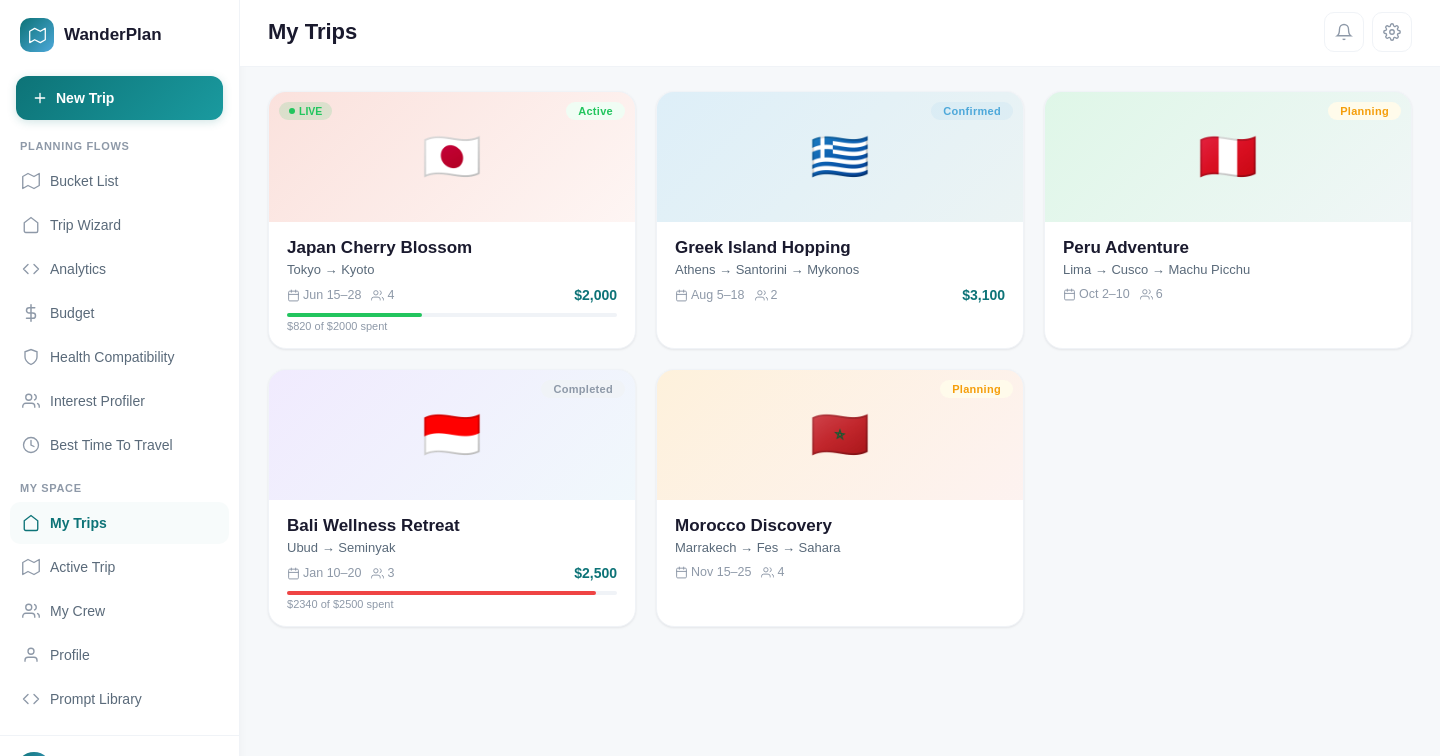
Scenario: Trip detail expense management › B-09 deletes an expense and recalculates running total
The width and height of the screenshot is (1440, 756).
Click the heading "Greek Island Hopping" at (763, 248), box [675,238,851,257]
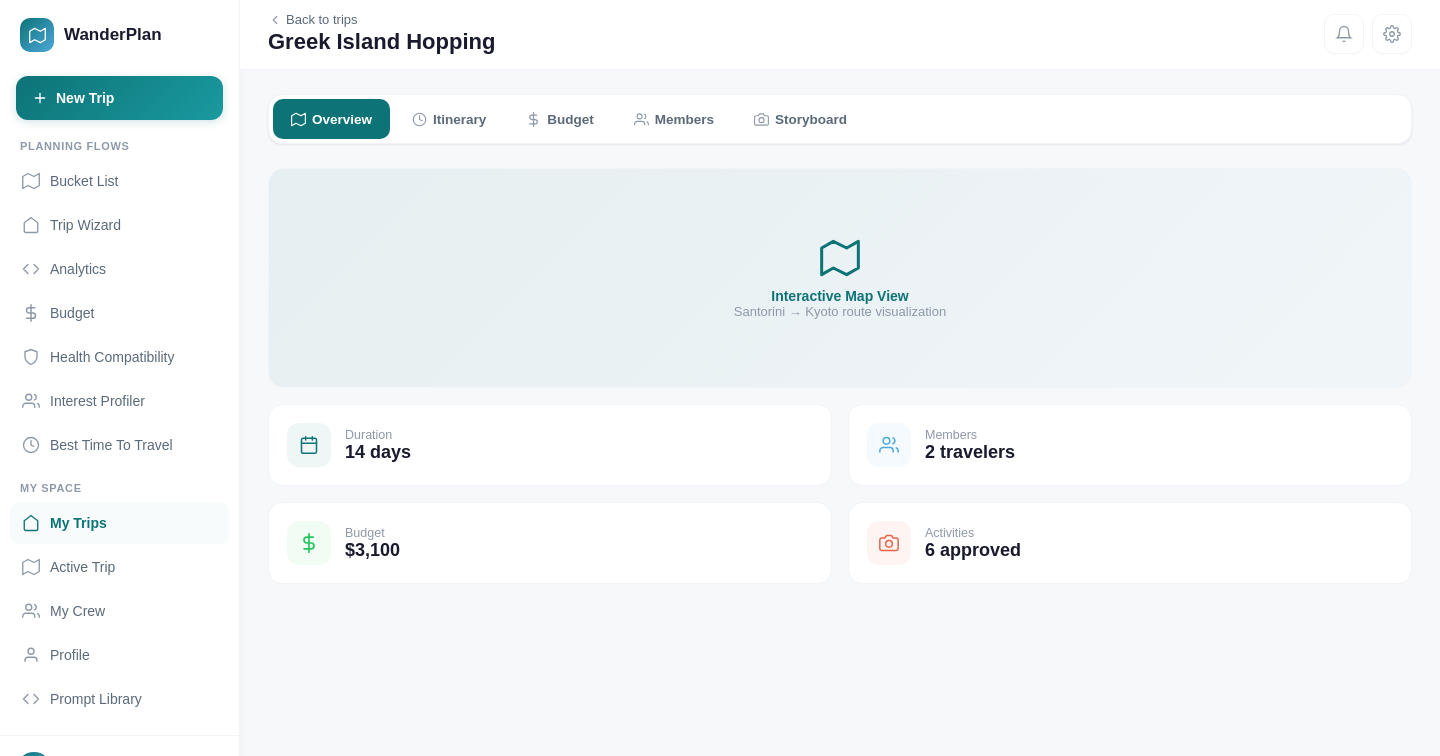
Click the button "Budget" below "Greek Island Hopping" at (560, 119), box [508,99,612,139]
(page scrolled)
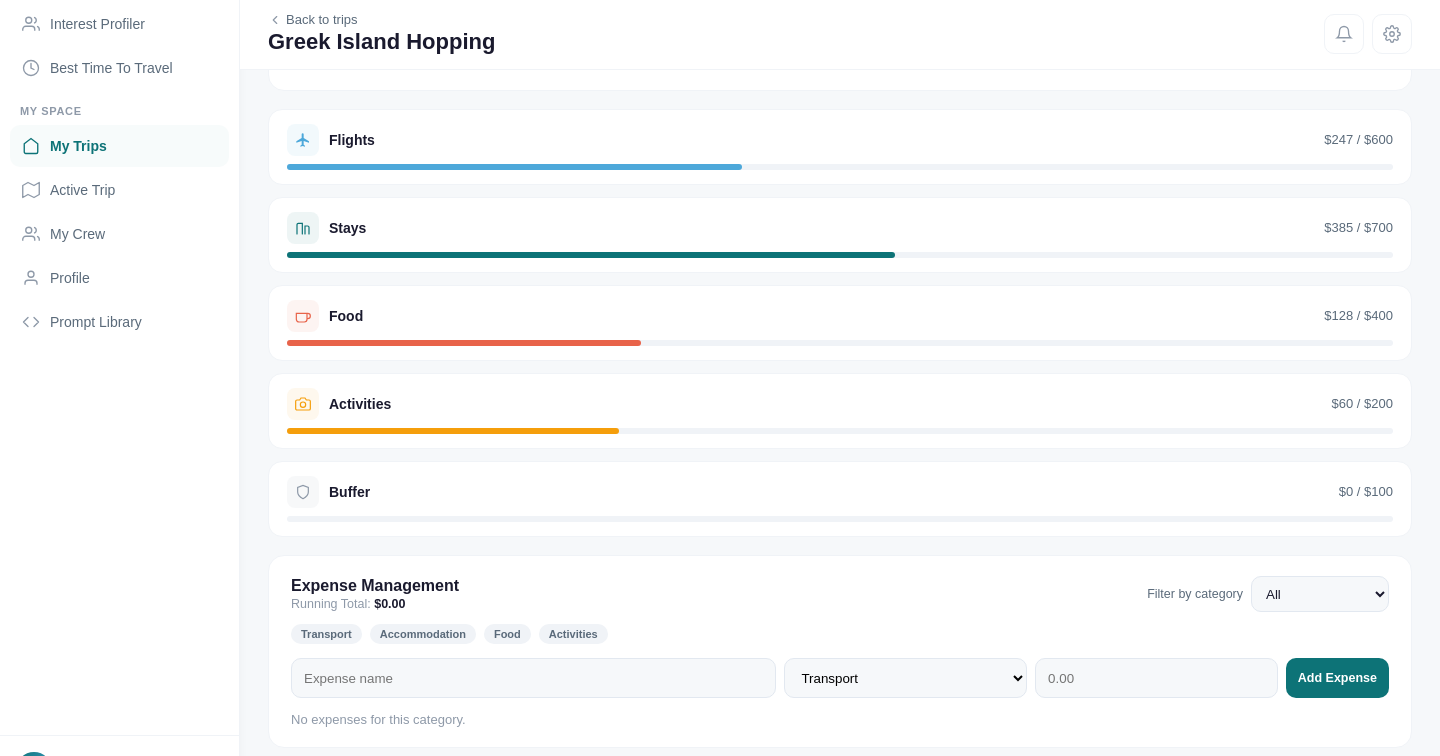
Type "Hotel Maui" into the field labelled "Expense name" at (534, 678), box [291,658,776,698]
Select "Accommodation" in the dropdown named "Expense category" at (906, 678), box [784,658,1027,698]
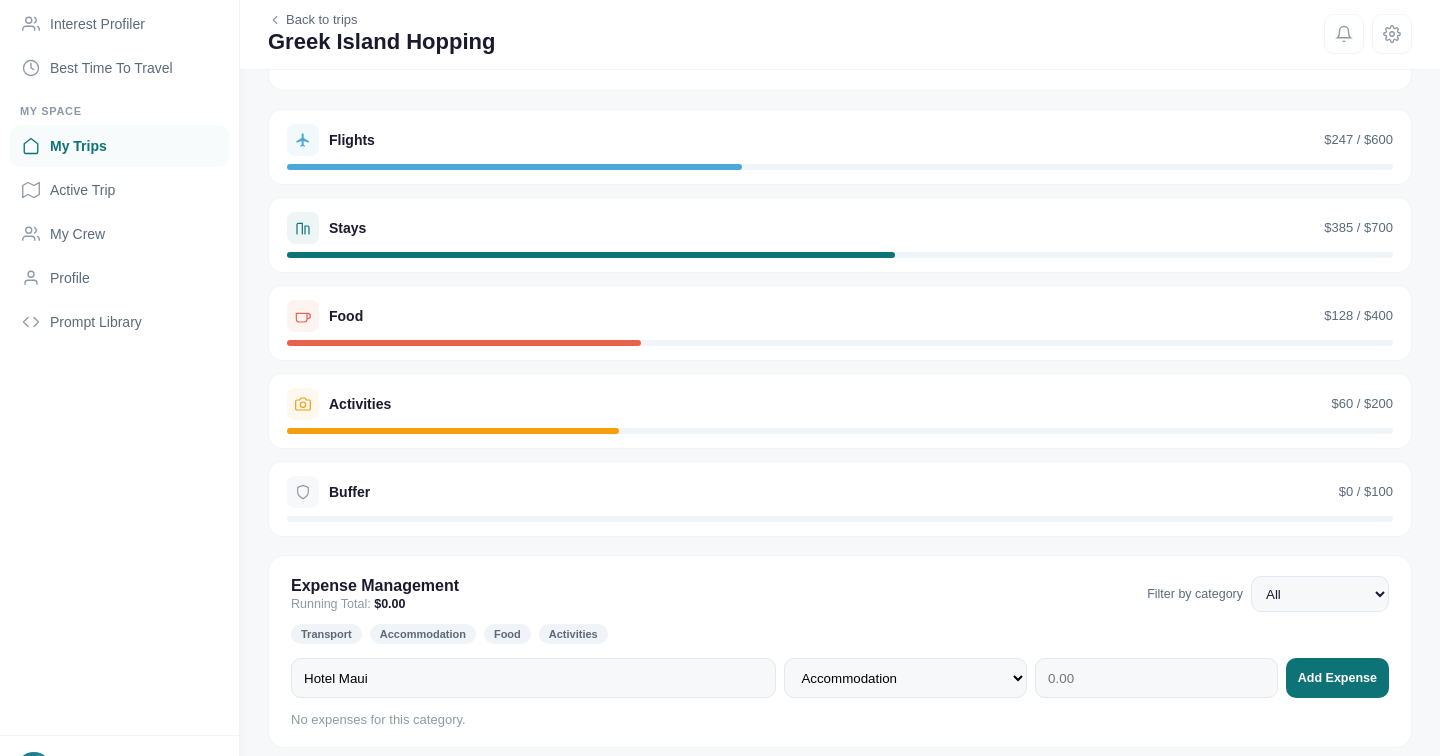
Type "220" into the number field named "Expense amount" at (1156, 678), box [1035,658,1278,698]
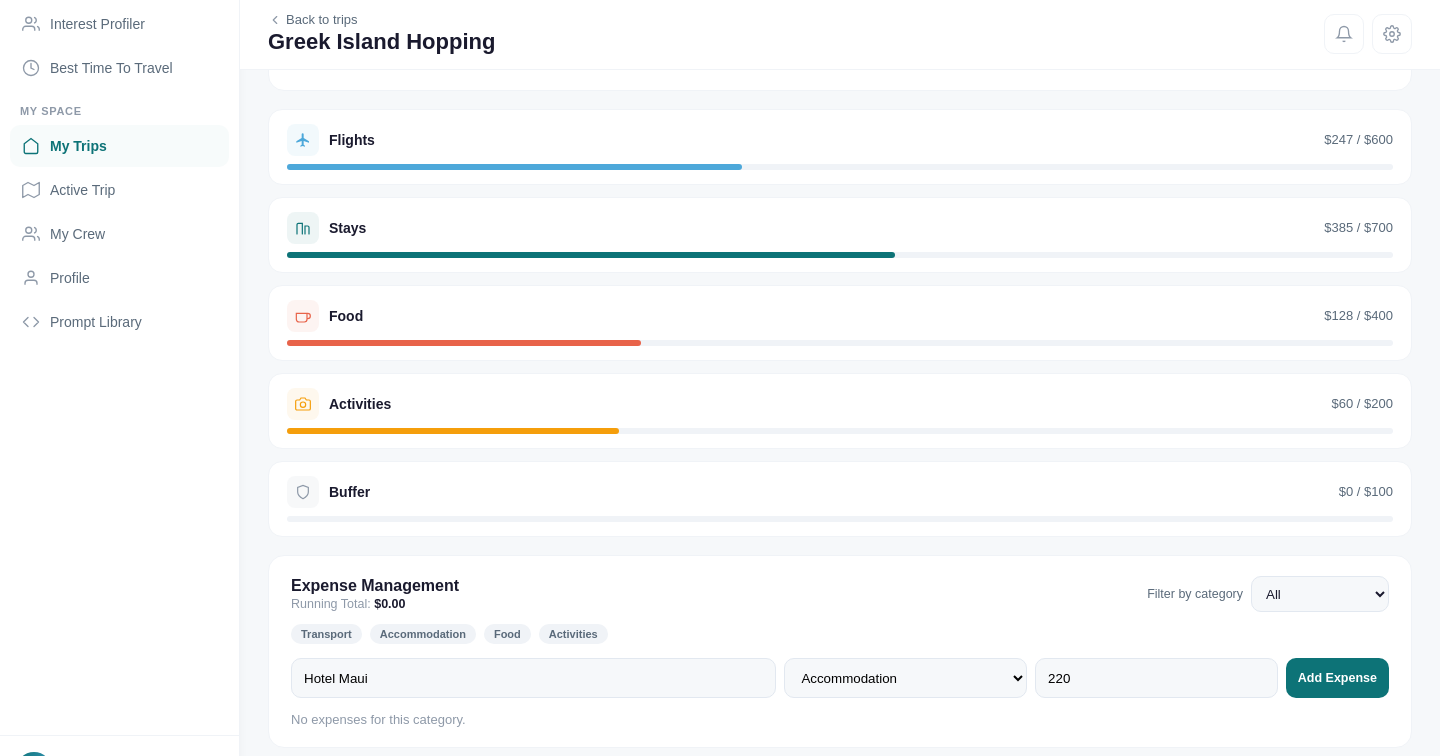
Click the button "Add Expense" at (1337, 678), box [1286,658,1389,698]
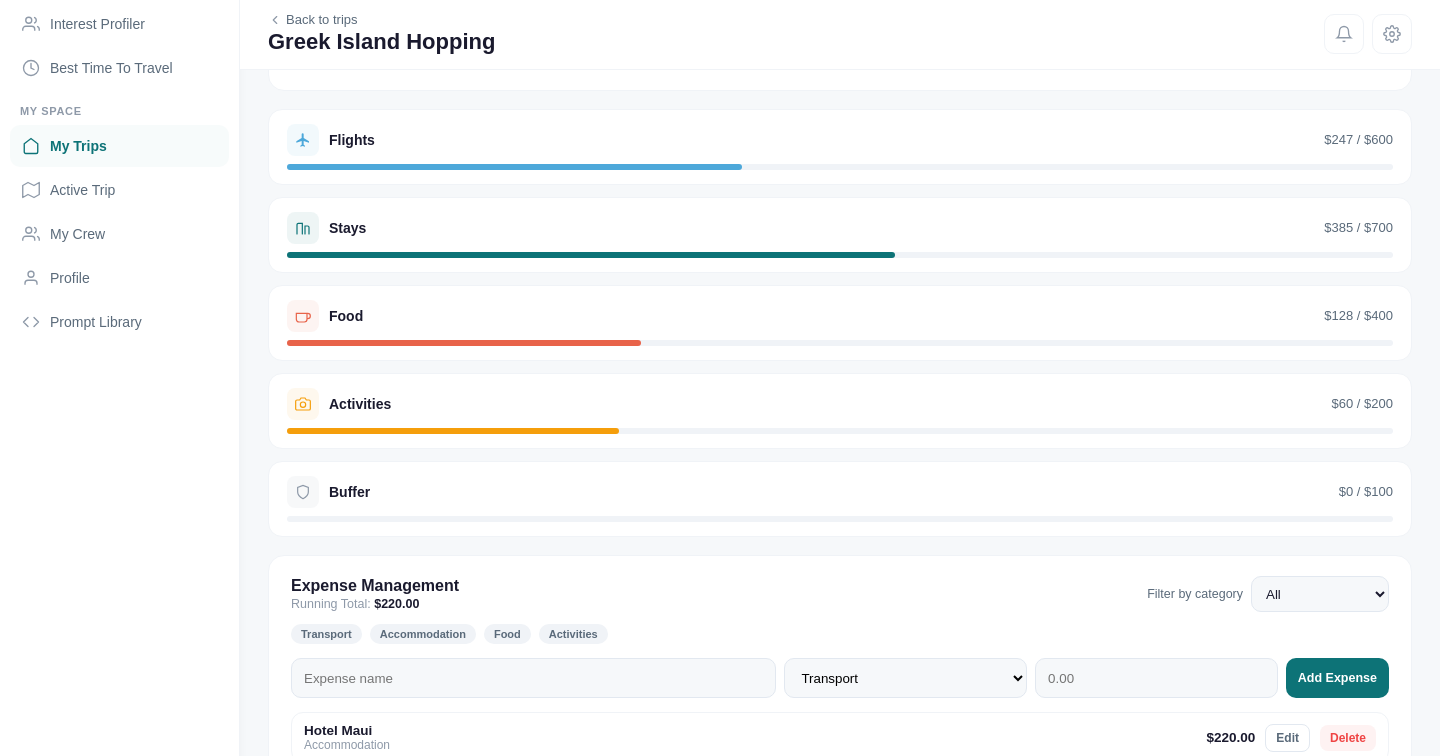
Expected: the text "Hotel Maui" is shown, [304,723,372,738]
Click the button with aria-label "Delete Hotel Maui expense" at (1348, 738), box [1320,724,1376,750]
(page scrolled)
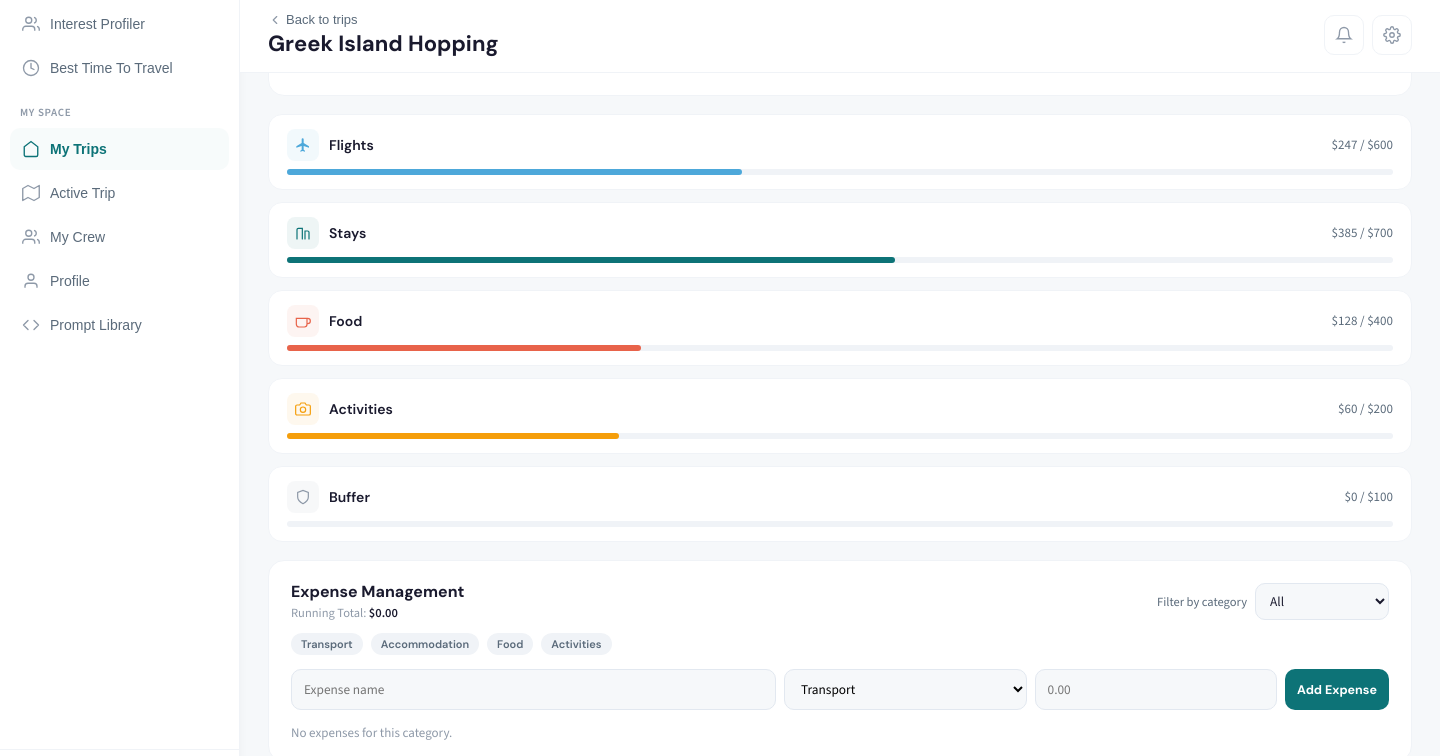
Expected: the text "Hotel Maui" is gone
Expected: the text "$0.00" is shown, [369,604,398,621]
